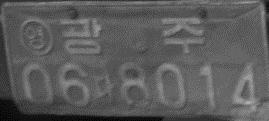0: (154, 61, 187, 110), (21, 63, 55, 108)
1: (191, 64, 221, 109)
4: (230, 63, 260, 111)
6: (57, 62, 90, 107)
8: (118, 61, 151, 108)
광주_D: (59, 17, 205, 55)
다: (91, 68, 116, 105)
영: (18, 18, 54, 55)
